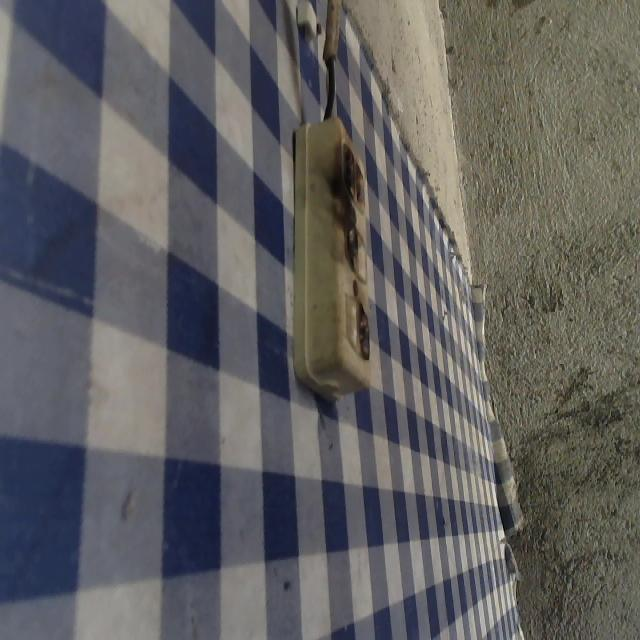-: (333, 137, 371, 207), (352, 297, 376, 367), (335, 216, 362, 271)
